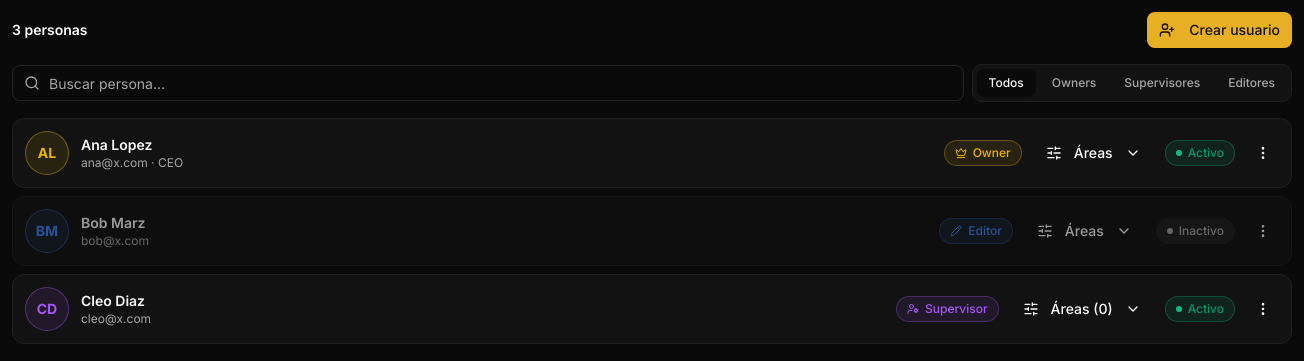
Test: UserAdminTable › shows an empty state when nothing matches
This screenshot has width=1304, height=361.
In the field with placeholder "Buscar persona…": (488, 83) [12,65,964,101], type "zzzz"
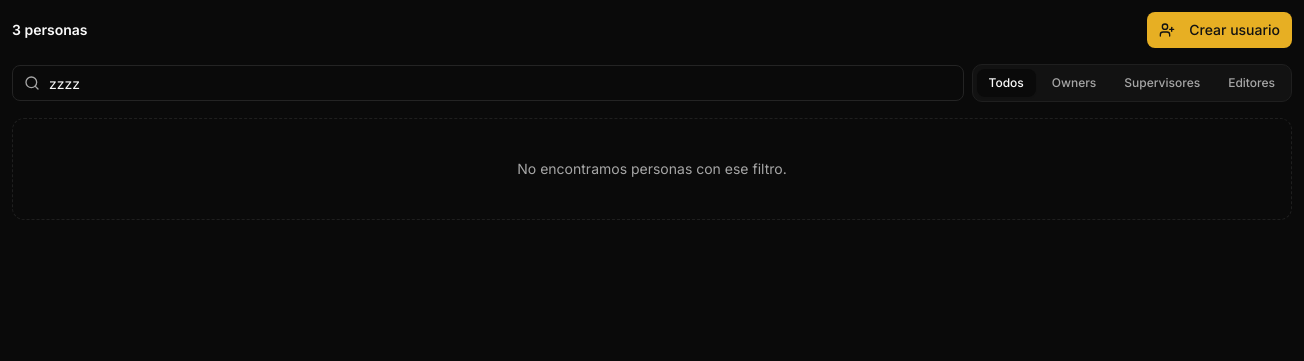
Expected: the text "No encontramos personas con ese filtro." is shown, [12,118,1292,220]
